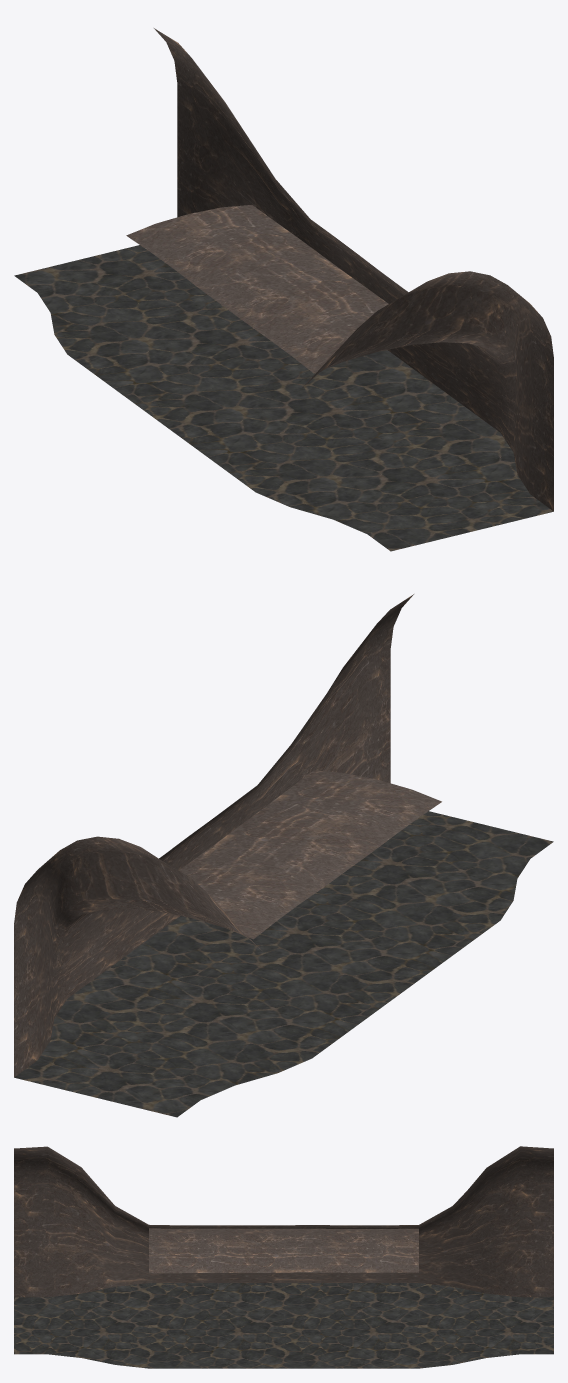
The model's file is rat-warren.ec3b7c20.gltf.
The picture shows the model from 3 angles, top to bottom: view 1: azimuth 30°, elevation 25°; view 2: azimuth 150°, elevation 25°; view 3: azimuth 270°, elevation 25°; orthographic projection. The views are drawn at different scales.
Visible parts, largest first — view 1: rat-warren-mesh; view 2: rat-warren-mesh; view 3: rat-warren-mesh.
Part boxes in pixels (x1,y1,x2,y2): rat-warren-mesh: [14, 28, 553, 551]; rat-warren-mesh: [14, 594, 553, 1117]; rat-warren-mesh: [14, 1146, 553, 1368].
Bounding box in the file's own units: 3.07 × 2.83 × 8.
Materials: 2 (2 with a texture image).
